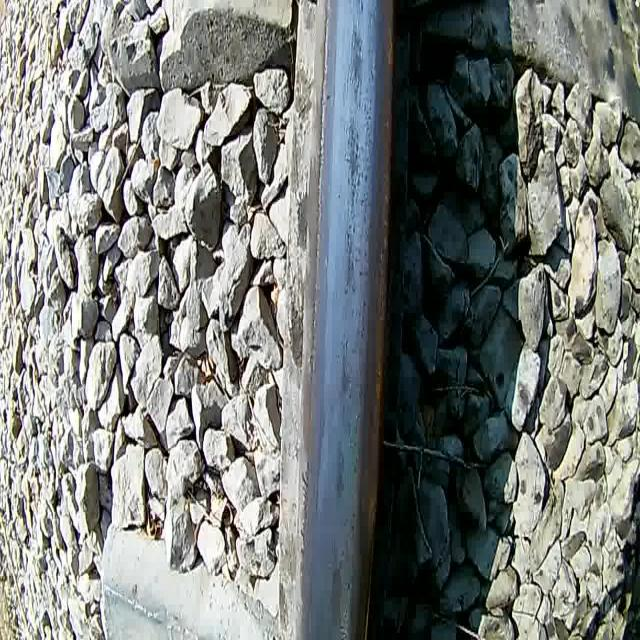Cracks: (340, 331, 350, 382), (346, 221, 353, 282)
Squats: (326, 552, 352, 640), (344, 22, 368, 110), (344, 111, 364, 213), (332, 432, 350, 509), (337, 331, 355, 406), (342, 221, 358, 303), (344, 0, 370, 15)
